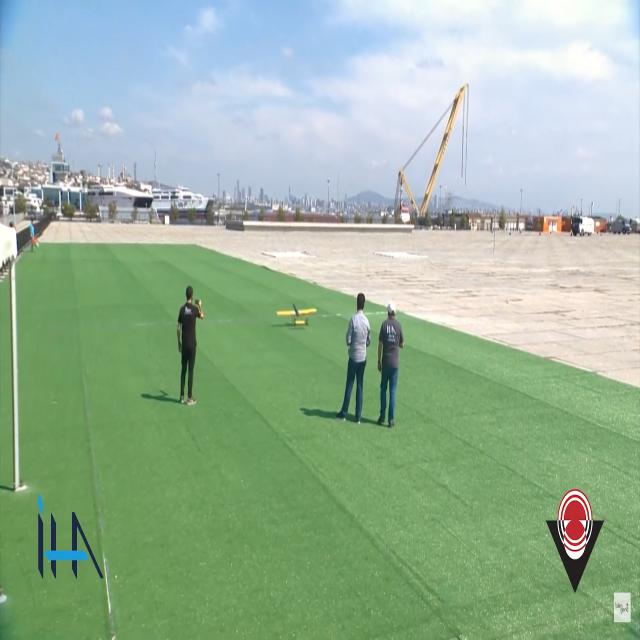iha: (276, 302, 317, 327)
